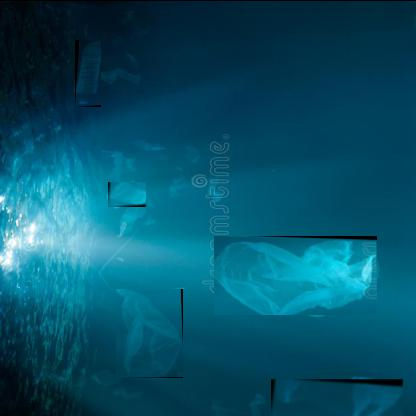bottle: (75, 38, 102, 106)
plastic-bag: (116, 287, 184, 377), (271, 377, 405, 415)
waste: (214, 234, 378, 314), (108, 180, 147, 206)
